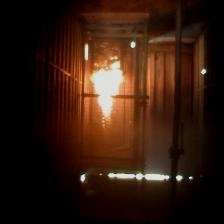fire: (89, 58, 130, 123)
